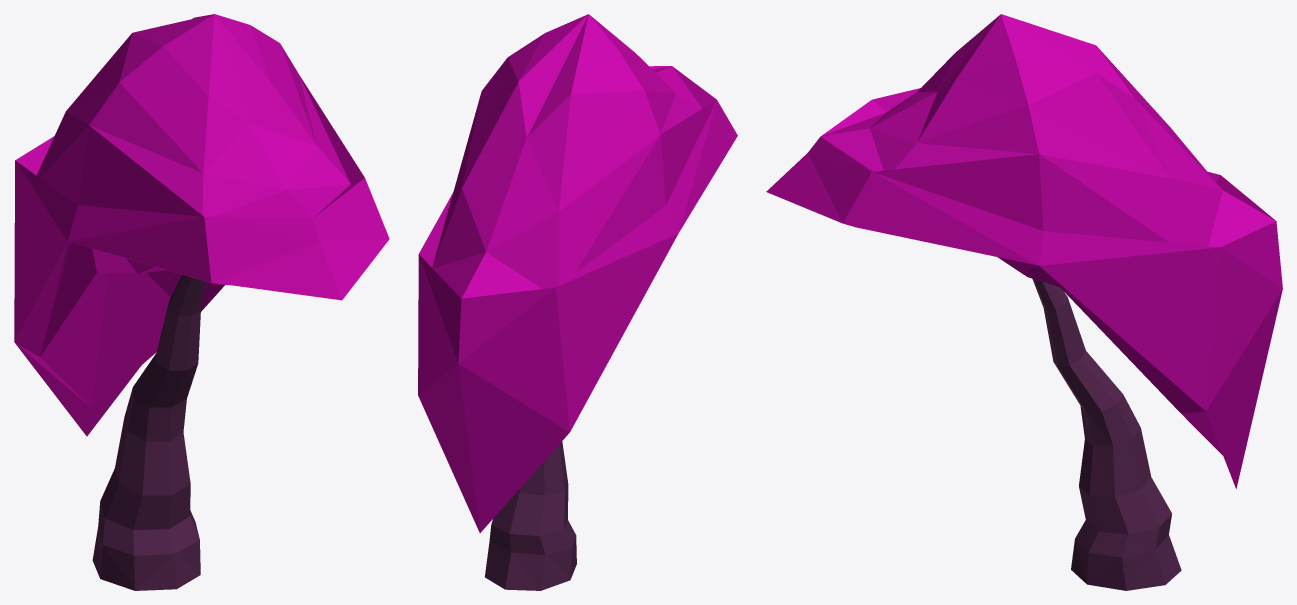
The model's file is 01_treeB_01.fbx.
The picture shows the model from 3 angles, left to right: view 1: azimuth 30°, elevation 25°; view 2: azimuth 150°, elevation 25°; view 3: azimuth 270°, elevation 25°; orthographic projection. The views are drawn at different scales.
Parts seen in each view (by area): view 1: _treeCopaB_01, _treeTroncoB_01; view 2: _treeCopaB_01, _treeTroncoB_01; view 3: _treeCopaB_01, _treeTroncoB_01.
Boxes of the visible parts, box(x1,y1,x2,y2) form: _treeCopaB_01: box(14, 14, 389, 436); _treeTroncoB_01: box(92, 274, 204, 590); _treeCopaB_01: box(418, 14, 737, 532); _treeTroncoB_01: box(485, 441, 576, 590); _treeCopaB_01: box(766, 14, 1282, 488); _treeTroncoB_01: box(1032, 278, 1181, 590).
Bounding box in the file's own units: 2.04 × 4.66 × 3.92.
